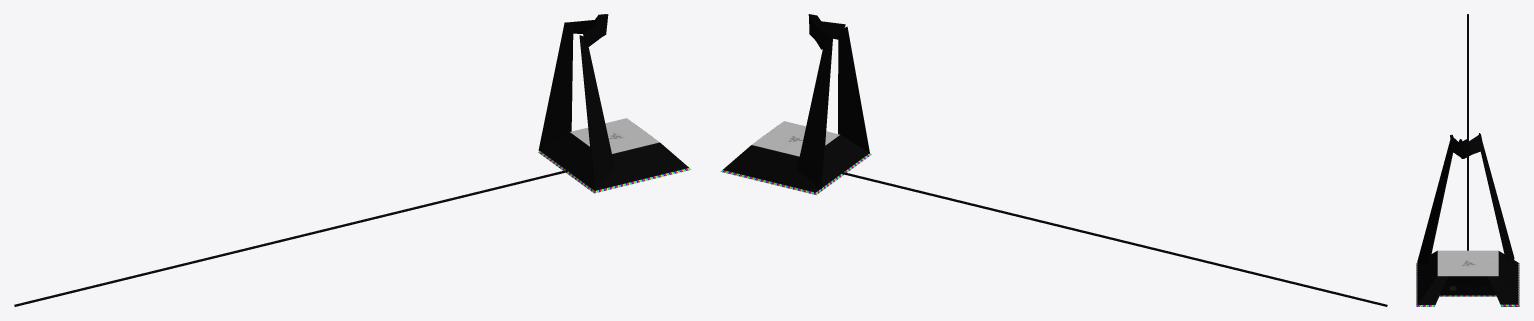
Rendered from stand.glb.
3 renders of one model, left to right at view 1: azimuth 30°, elevation 25°; view 2: azimuth 150°, elevation 25°; view 3: azimuth 270°, elevation 25°, orthographic. The views are drawn at different scales.
Visible parts, largest first — view 1: Cube_8, Plane.004_0, Plane.005_1, Cylinder_7, Plane.003_9; view 2: Cube_8, Plane.004_0, Plane.005_1, Cylinder_7, Plane.003_9; view 3: Cube_8, Plane.003_9, Plane.005_1, Plane.004_0, Cylinder_7, Plane.006_2, Plane.007_3.
Boxes of the visible parts, x1,y1,x2,y2 form: Cube_8: (538, 132, 691, 193); Plane.004_0: (538, 22, 573, 150); Plane.005_1: (579, 35, 614, 190); Cylinder_7: (14, 169, 568, 306); Plane.003_9: (570, 118, 659, 153); Cube_8: (720, 135, 871, 194); Plane.004_0: (796, 36, 833, 188); Plane.005_1: (838, 26, 869, 153); Cylinder_7: (841, 171, 1387, 306); Plane.003_9: (752, 121, 839, 156); Cube_8: (1416, 250, 1519, 306); Plane.003_9: (1437, 250, 1498, 276); Plane.005_1: (1417, 134, 1453, 263); Plane.004_0: (1478, 133, 1514, 262); Cylinder_7: (1467, 14, 1468, 250); Plane.006_2: (1462, 134, 1483, 158); Plane.007_3: (1450, 135, 1462, 158).
Bounding box in the file's own units: 36.44 × 8.19 × 5.48.
7 materials, 2 textured.
